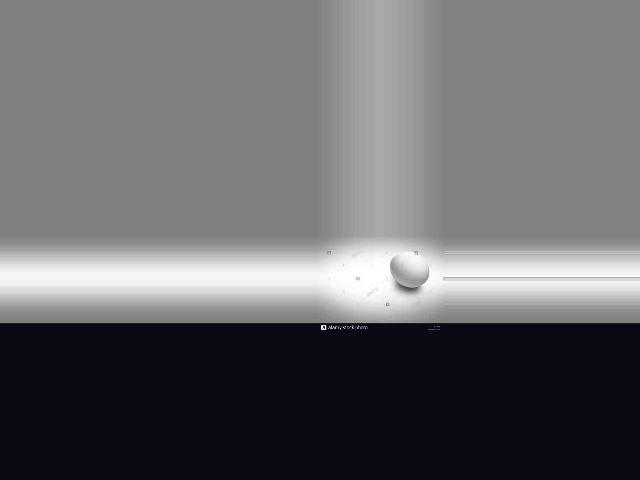egg: (391, 252, 430, 288)
